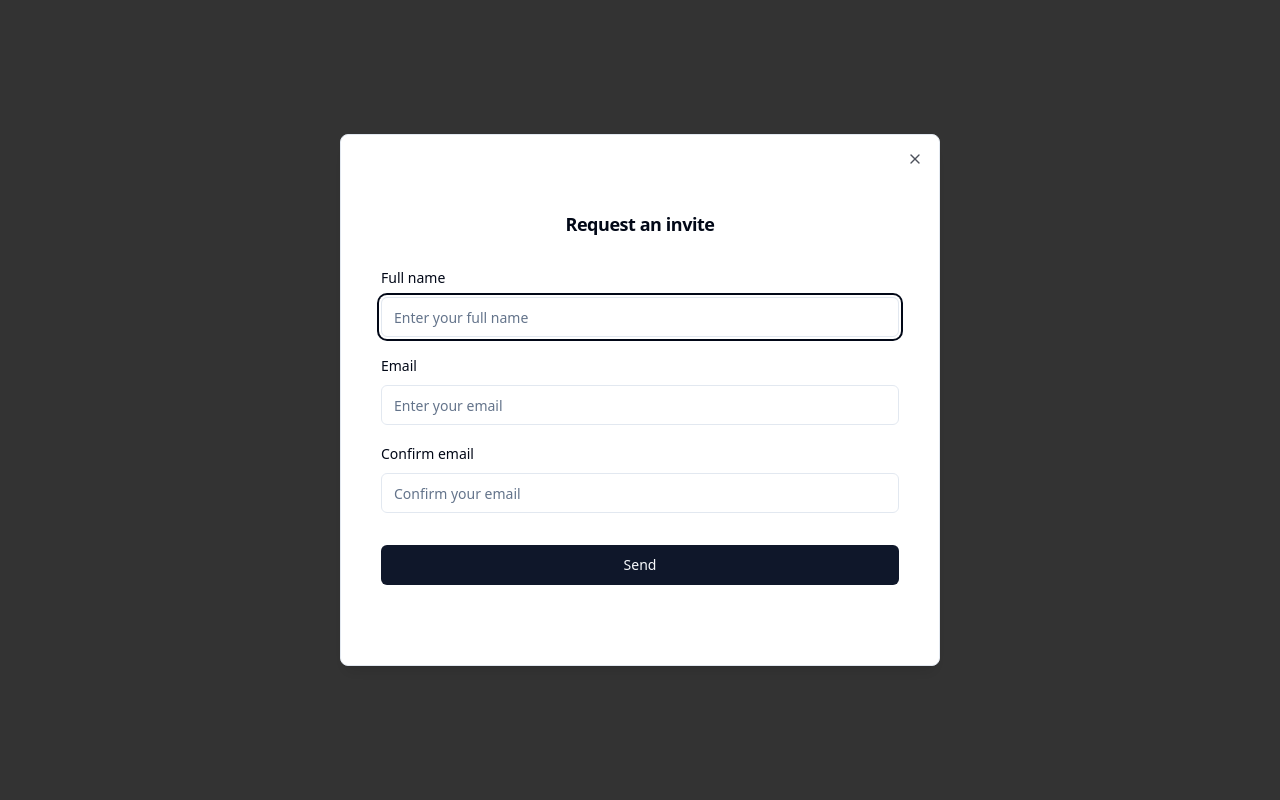
Test case: DialogModal › should show error if email is not valid
This screenshot has width=1280, height=800.
Type "acasda" into the field named "fullName-input" at {"x": 640, "y": 317}, box x1=381 y1=297 x2=899 y2=337
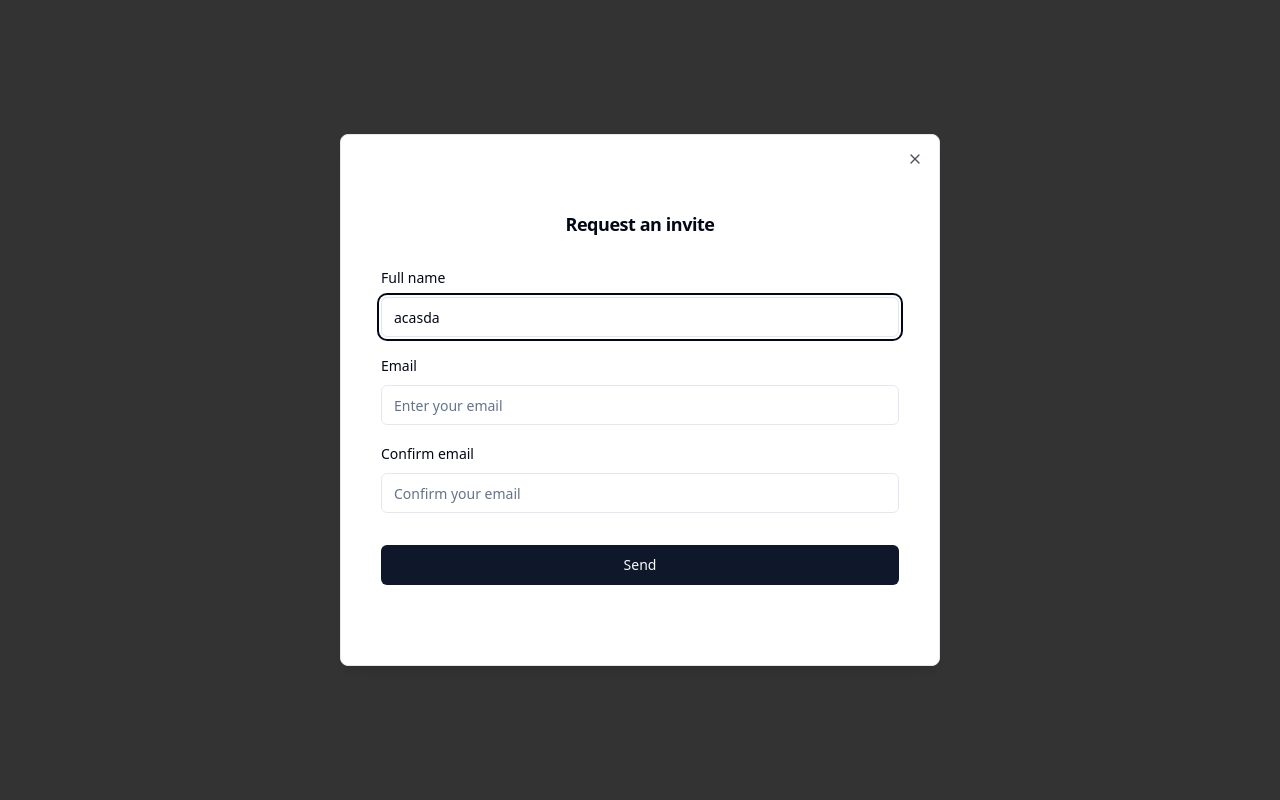
Type "acasdasd" into the field named "email-input" at {"x": 640, "y": 405}, box x1=381 y1=385 x2=899 y2=425
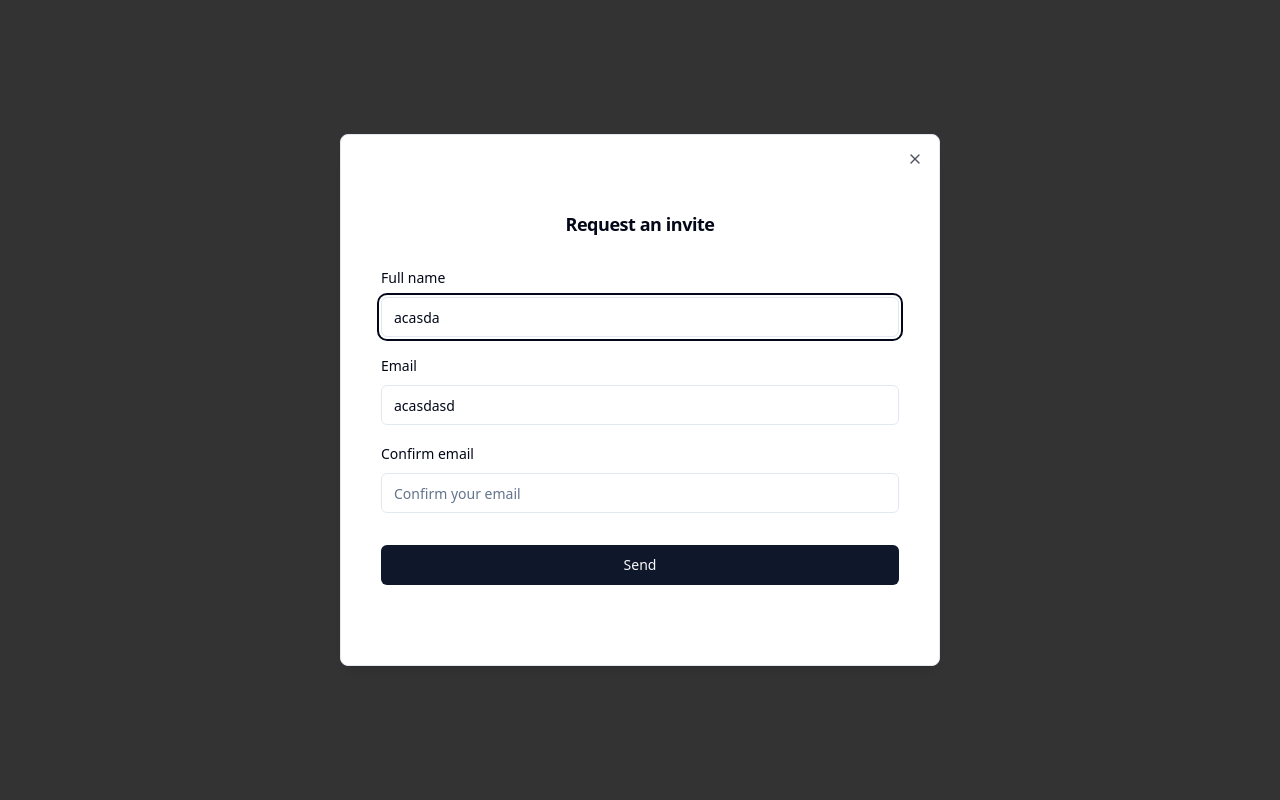
Click the button "Send" at {"x": 640, "y": 565}, box x1=381 y1=545 x2=899 y2=585
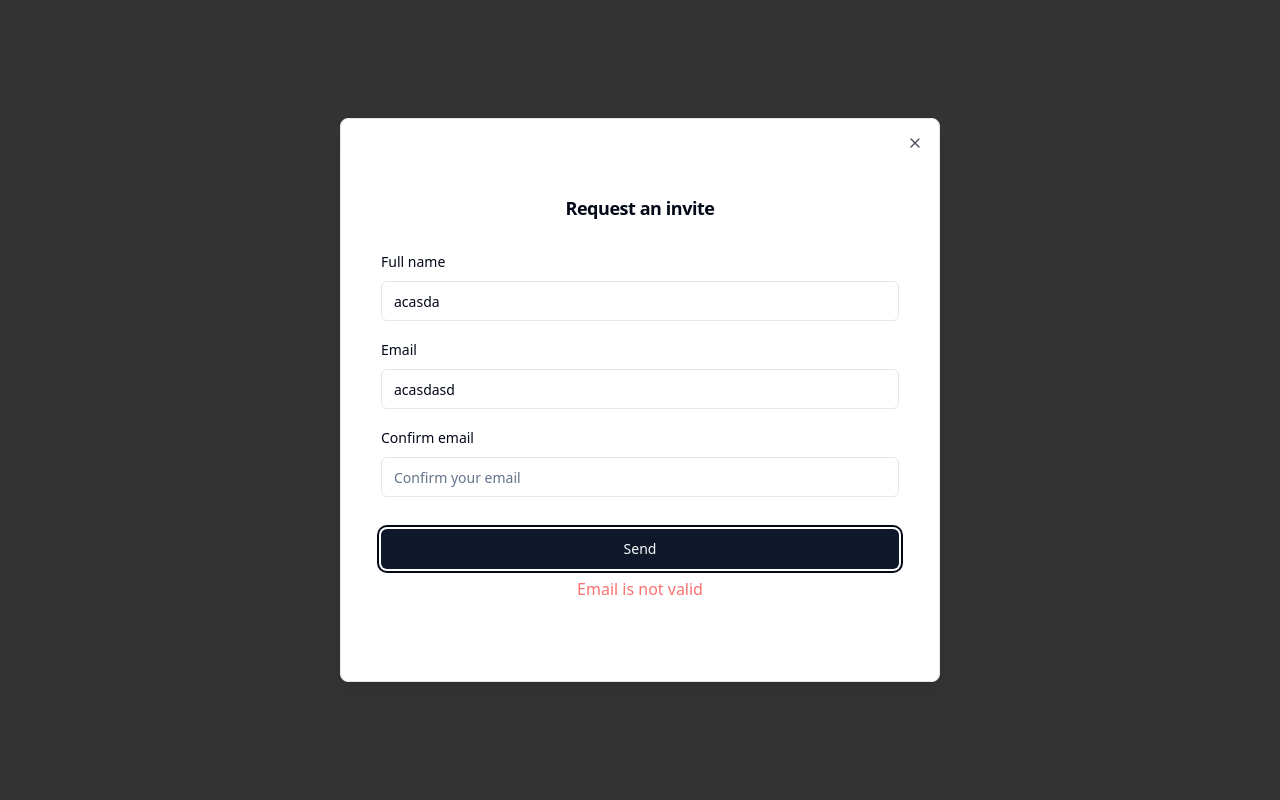
expect the text "Email is not valid" is shown: met, box x1=577 y1=578 x2=703 y2=600
